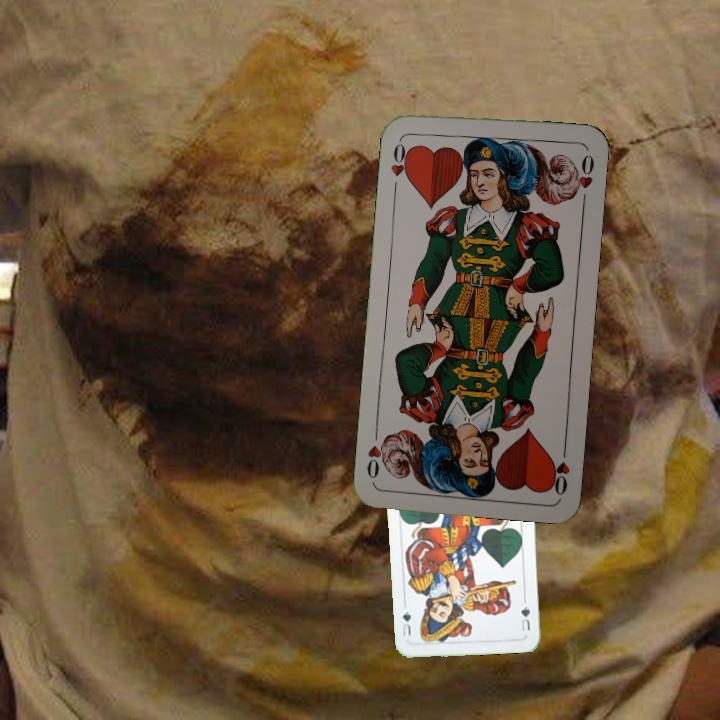GU: (517, 601, 533, 634)
HO: (386, 134, 414, 193), (546, 439, 573, 498)
